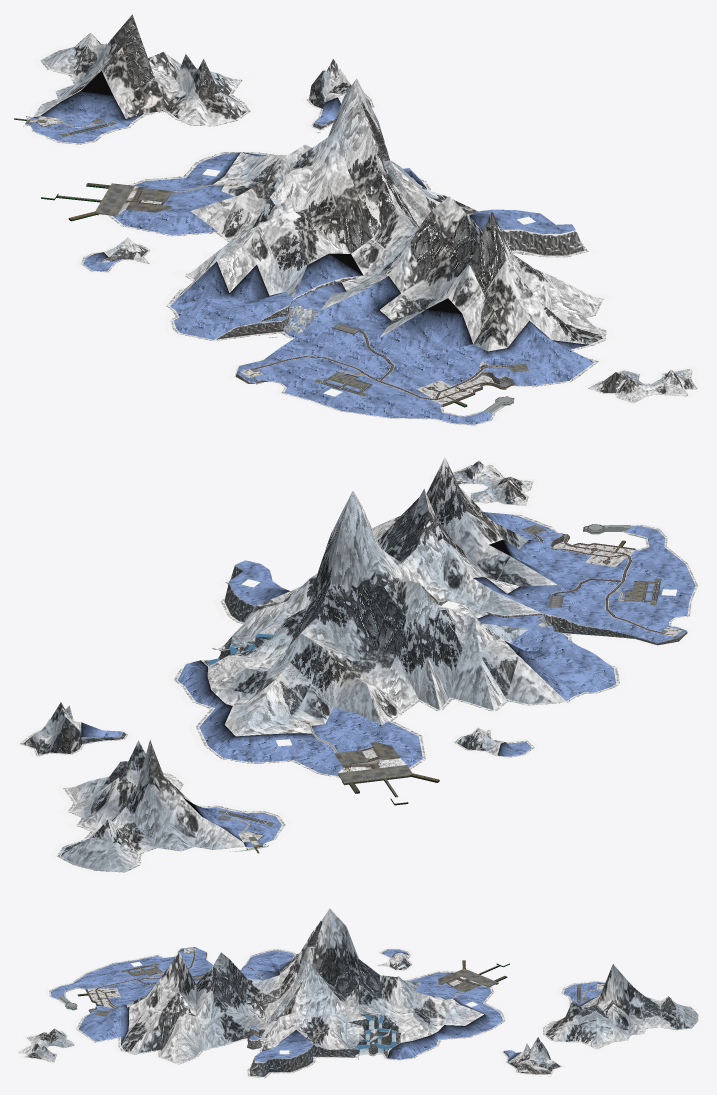
File: terrain.glb
The picture shows the model from 3 angles, top to bottom: view 1: azimuth 30°, elevation 25°; view 2: azimuth 150°, elevation 25°; view 3: azimuth 270°, elevation 25°; orthographic projection. The views are drawn at different scales.
Visible parts, largest first — view 1: terrain; view 2: terrain; view 3: terrain.
Boxes of the visible parts, x1,y1,x2,y2 form: terrain: (14, 14, 702, 427); terrain: (14, 457, 702, 875); terrain: (14, 908, 702, 1080).
Size of the model in its own units: 1988 by 829 by 4341.
37 materials, 37 textured.
